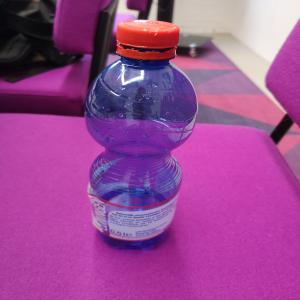Plastic-bottle: (84, 20, 200, 254)
